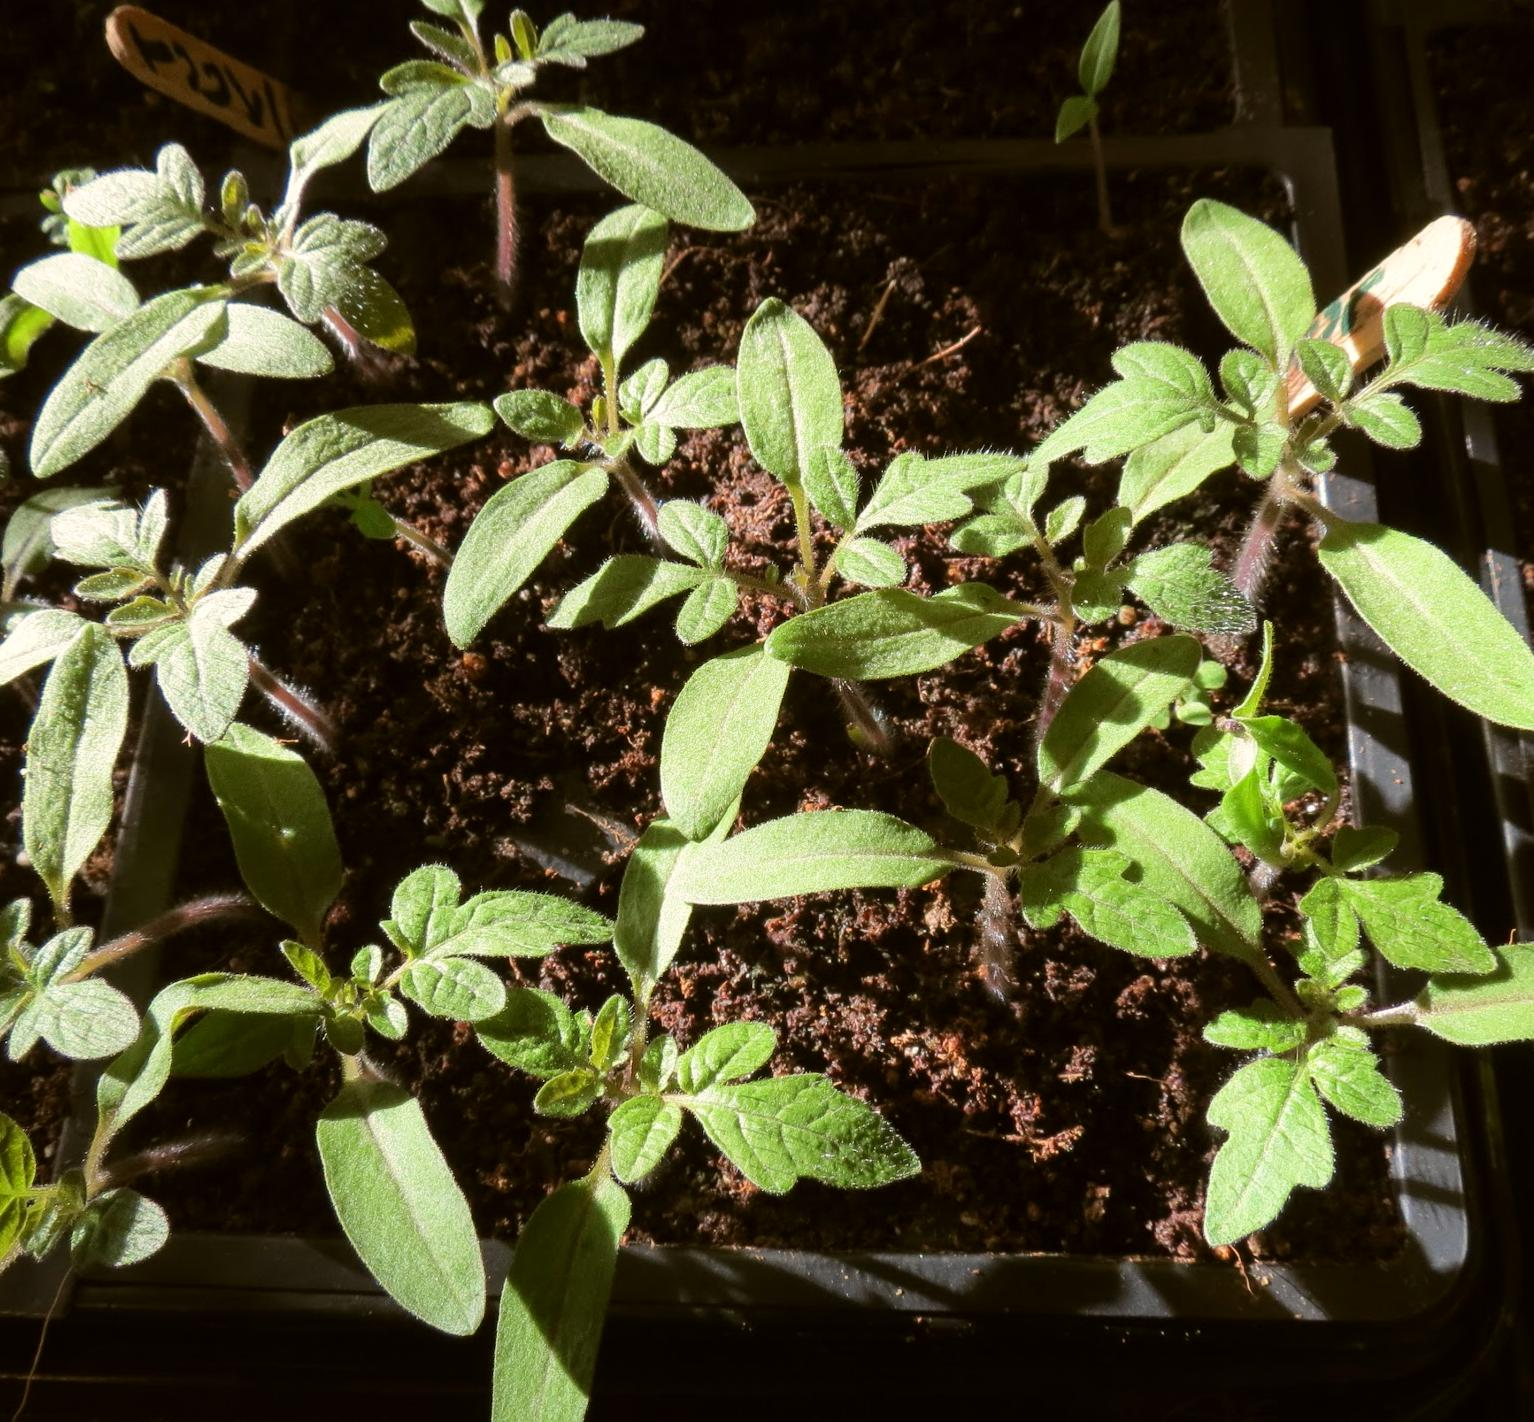Tomato leaf: (1167, 997, 1400, 1267), (306, 1040, 490, 1350), (15, 265, 257, 485), (1334, 503, 1534, 755), (188, 710, 361, 1002), (0, 597, 136, 950), (436, 424, 629, 664), (354, 854, 617, 1029), (470, 1172, 647, 1422), (216, 400, 510, 548), (505, 88, 762, 246), (698, 1069, 933, 1236), (1289, 297, 1534, 441), (653, 623, 808, 843), (1029, 642, 1203, 833), (1179, 171, 1324, 396), (661, 805, 950, 915), (1016, 339, 1223, 488), (734, 271, 853, 516), (559, 196, 689, 402), (367, 55, 501, 212), (1318, 855, 1485, 964), (382, 0, 517, 94)
